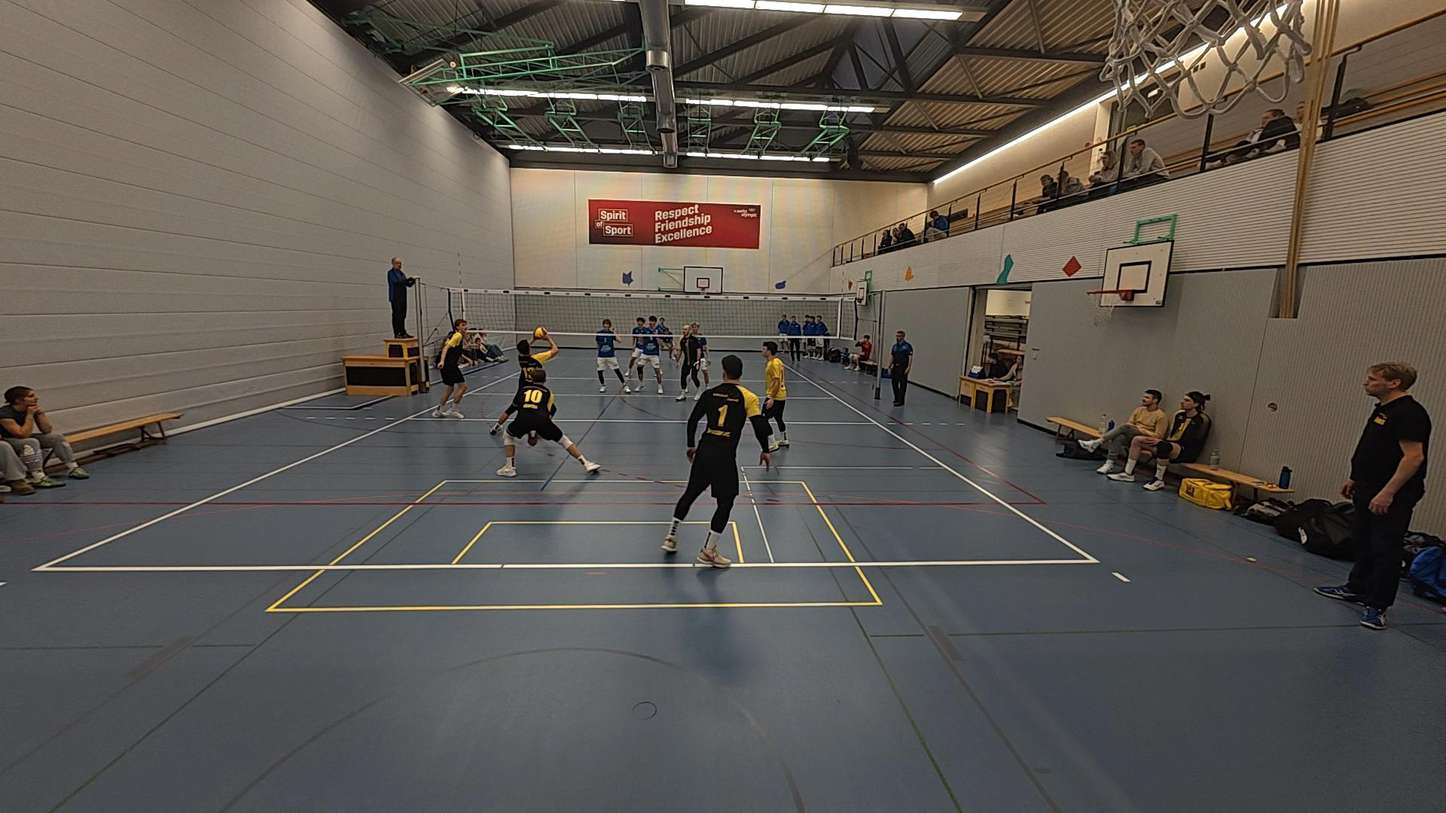ricezione: (487, 322, 560, 447)
